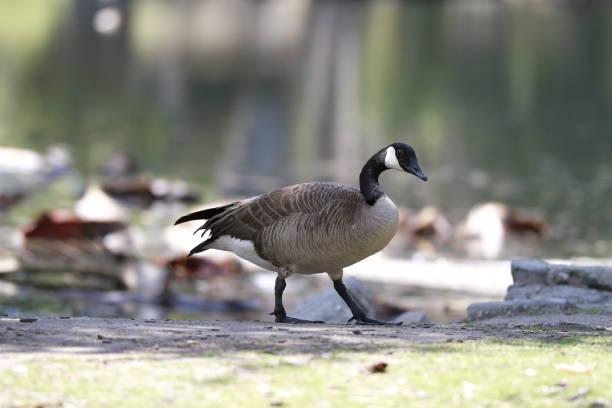Canadian-Goose: (177, 141, 428, 329)
